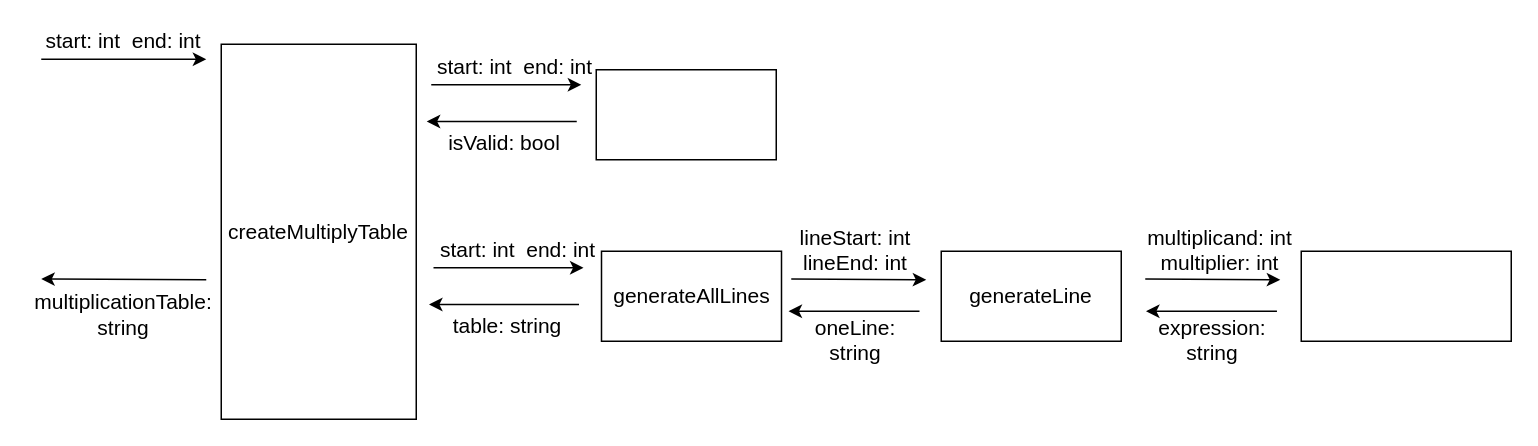
The diagram is 1538 pixels wide and 446 high, and some of its shapes have lost their labels. Each missing label, with the box of its shape:
generateExpression: (1300, 250, 1511, 341)
isValid: (595, 68, 776, 160)
